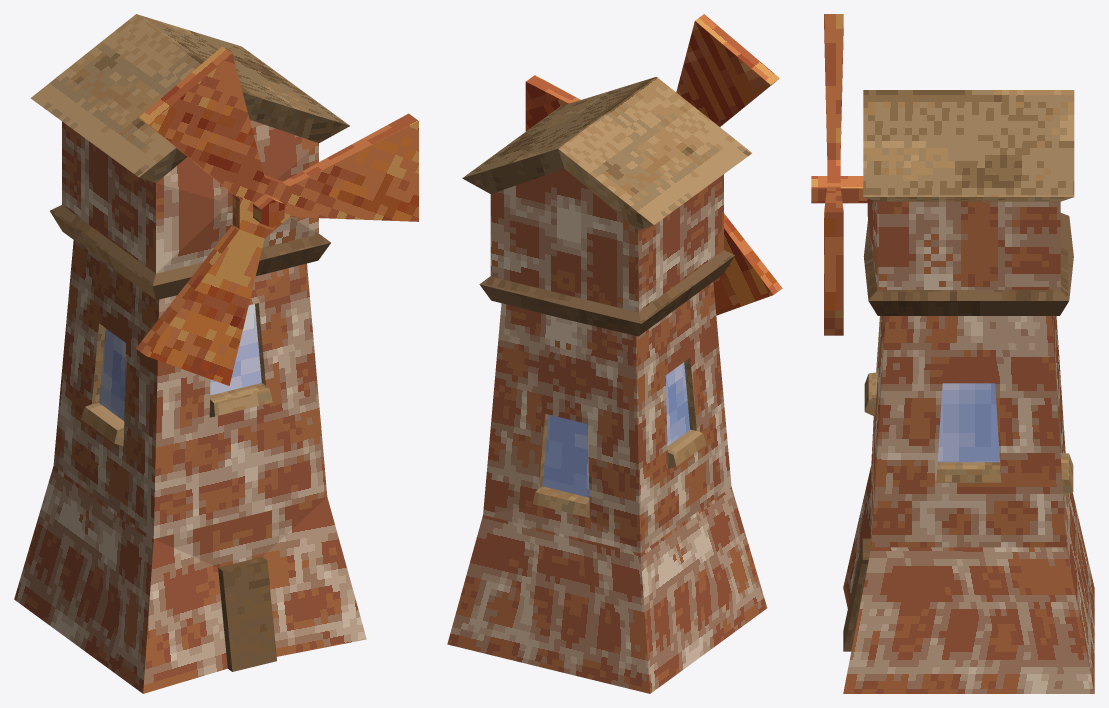
File: kvarn-tex.glb
3 renders of one model, left to right at view 1: azimuth 30°, elevation 25°; view 2: azimuth 150°, elevation 25°; view 3: azimuth 270°, elevation 25°, orthographic. The views are drawn at different scales.
Parts seen in each view (by area): view 1: Cube.002, Cube.004; view 2: Cube.002, Cube.004; view 3: Cube.002, Cube.004.
Part boxes in pixels (<box>): Cube.002: <box>14,14,366,693</box>; Cube.004: <box>136,46,418,385</box>; Cube.002: <box>447,77,767,693</box>; Cube.004: <box>525,14,782,315</box>; Cube.002: <box>843,90,1094,693</box>; Cube.004: <box>811,14,867,335</box>.
Bounding box in the file's own units: 12.21 × 26.84 × 11.26.
Materials: 5 (5 with a texture image).
